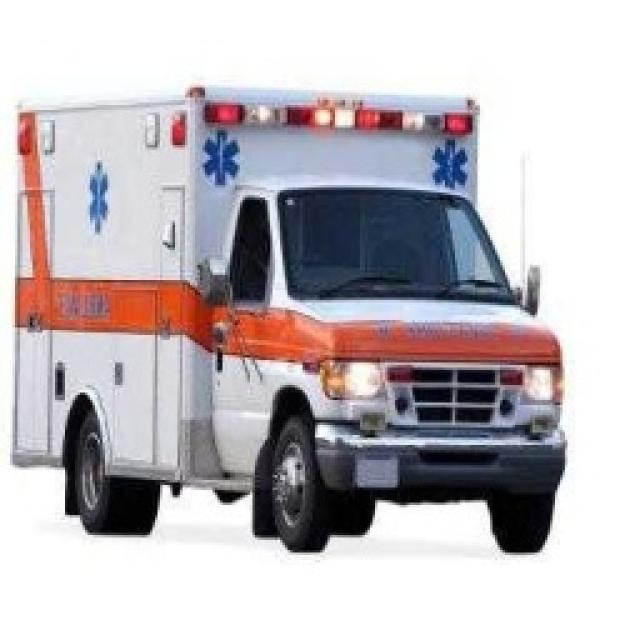emergency-vehicle: (9, 78, 571, 567)
